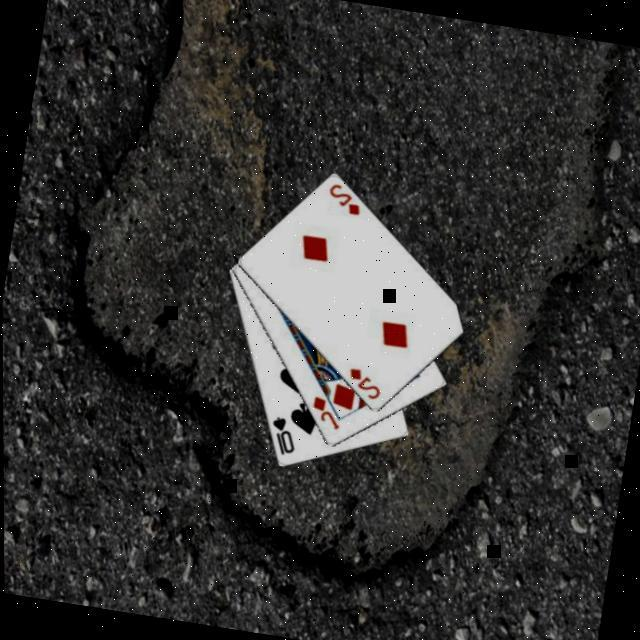10S: (261, 415, 298, 461)
2D: (340, 365, 384, 405), (321, 181, 365, 221)
JD: (303, 394, 344, 435)
